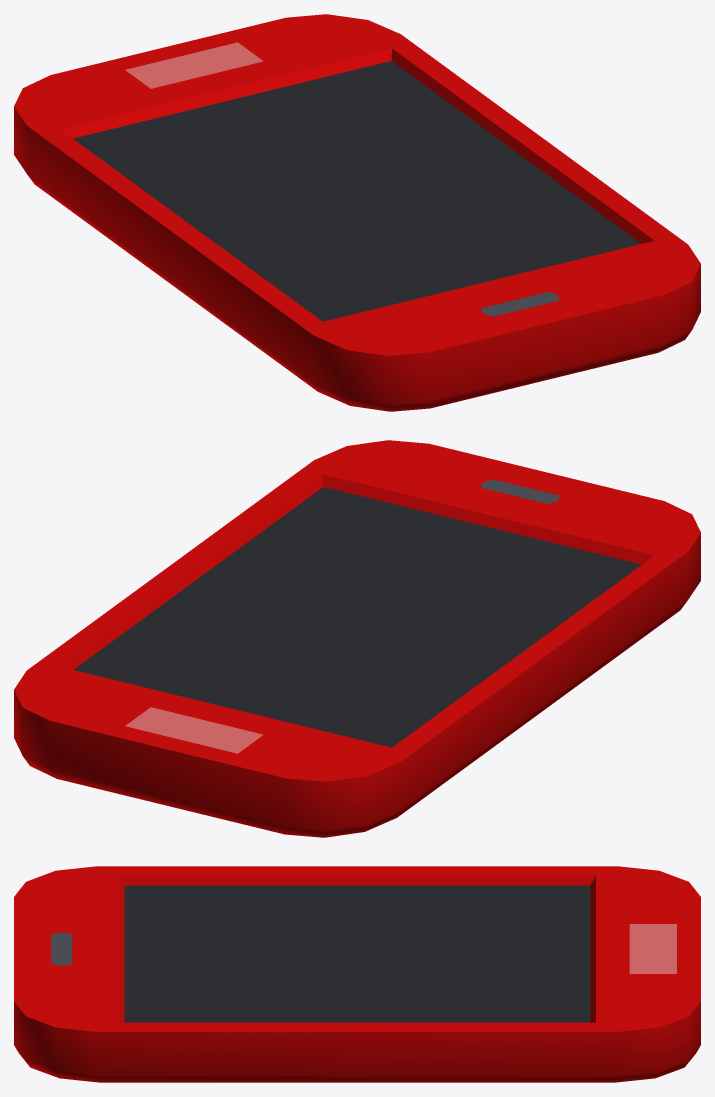
File: NF_Phone_04.fbx
3 views of the same model, one above another, from view 1: azimuth 30°, elevation 25°; view 2: azimuth 150°, elevation 25°; view 3: azimuth 270°, elevation 25° (orthographic). The views are drawn at different scales.
Parts seen in each view (by area): view 1: NF_Phone_04; view 2: NF_Phone_04; view 3: NF_Phone_04.
Part boxes in pixels (x1=…): NF_Phone_04: x1=14, y1=14, x2=700, y2=411; NF_Phone_04: x1=14, y1=440, x2=700, y2=837; NF_Phone_04: x1=14, y1=866, x2=700, y2=1082.
Bounding box in the file's own units: 0.1025 × 0.0171 × 0.1796.
